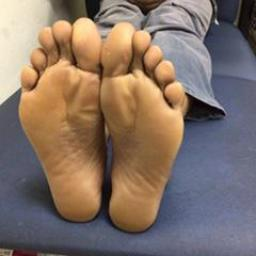Plantar View -Both Feet-: (13, 10, 190, 234)
